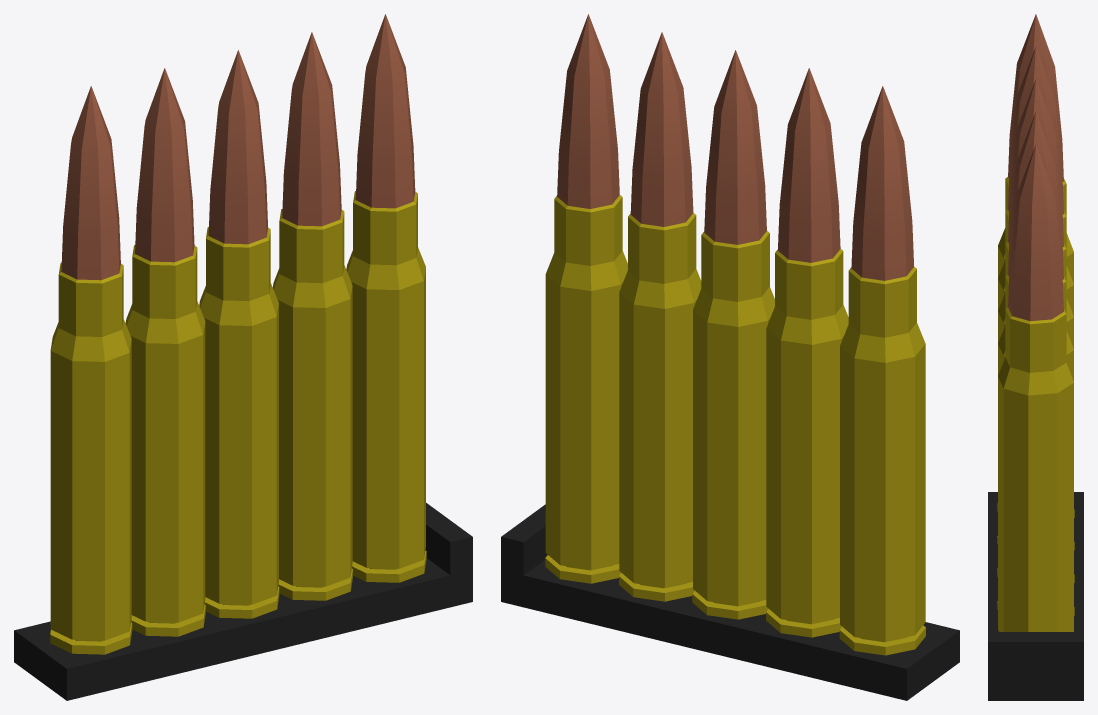
The model's file is mermiloot.fbx.
3 views of the same model, side by side, from view 1: azimuth 30°, elevation 25°; view 2: azimuth 150°, elevation 25°; view 3: azimuth 270°, elevation 25° (orthographic). The views are drawn at different scales.
Visible parts, largest first — view 1: bulletLoot; view 2: bulletLoot; view 3: bulletLoot.
Part boxes in pixels (<box>): bulletLoot: <box>14,14,472,700</box>; bulletLoot: <box>501,14,959,700</box>; bulletLoot: <box>988,14,1083,700</box>.
Bounding box in the file's own units: 36.95 × 50.75 × 8.33.
Materials: 1 (1 with a texture image).
